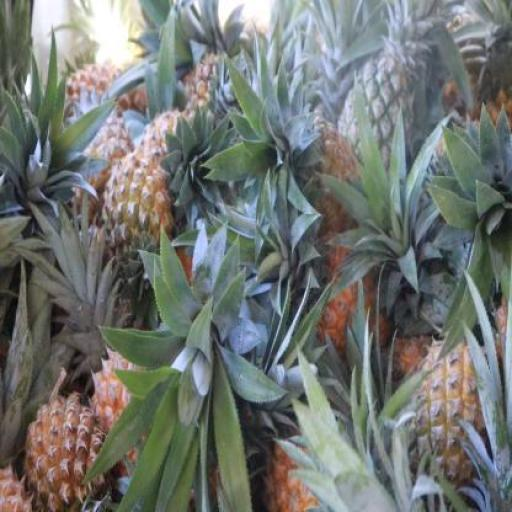------------------------------: (401, 342, 484, 495), (104, 148, 172, 282)
Pineapple - v8 v1: (25, 394, 103, 512)
